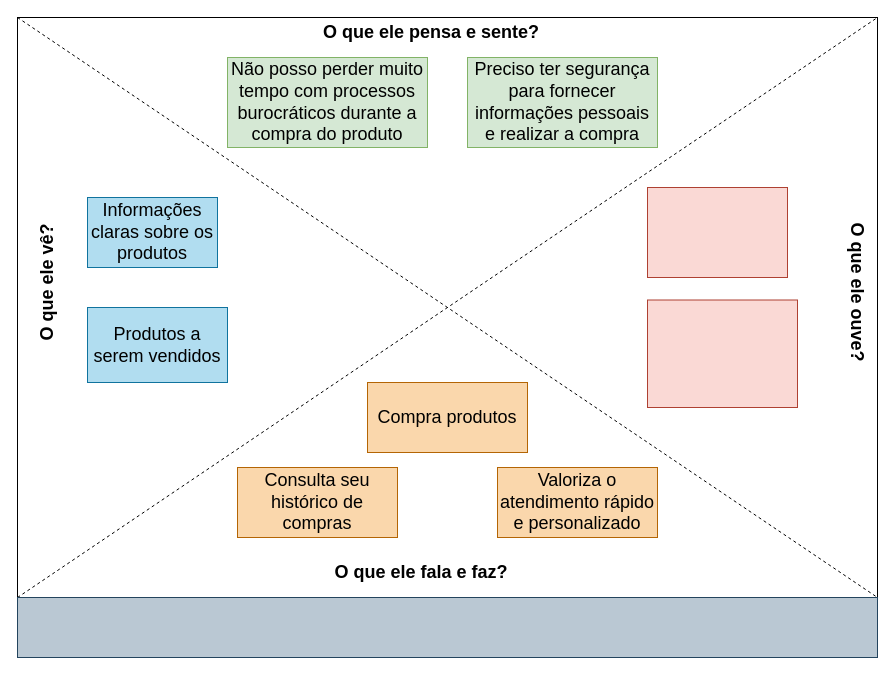
This 896x675 diagram has some shape labels left out. Each missing label, with the centre of its shape:
"Boa comunicação com a loja com respostas rápidas" goes at [722,353].
"Conversas com vendedores da loja" goes at [717,232].
"Perfil: Cliente" goes at [447,627].
